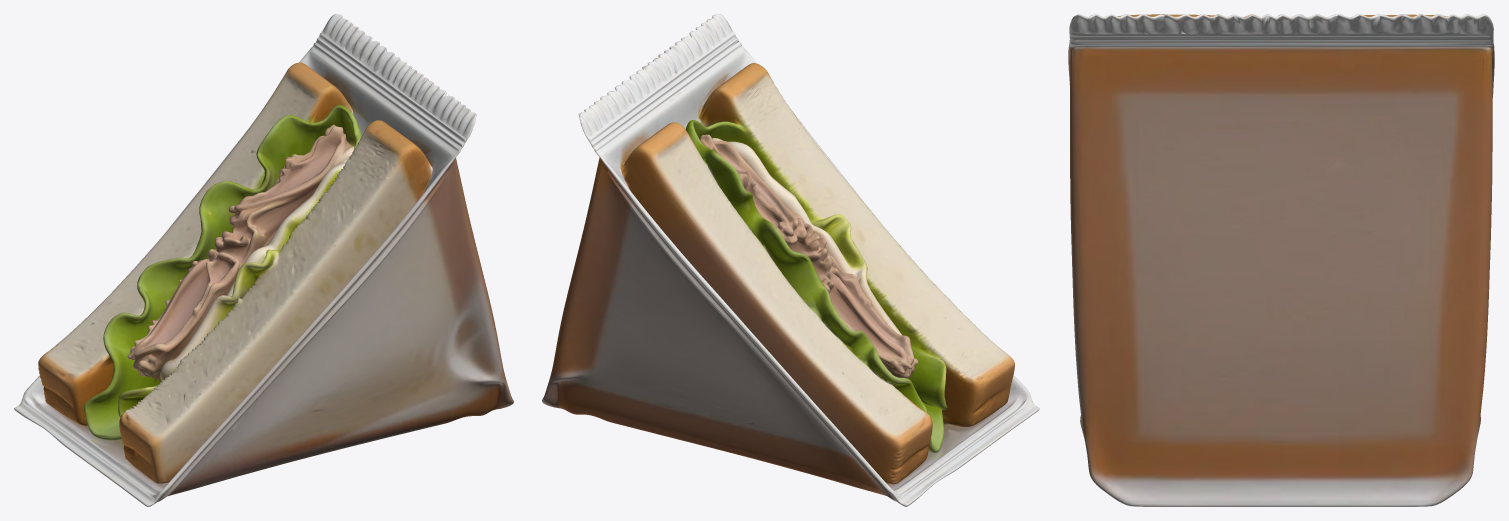
Rendered from tuna-sandwich.glb.
The picture shows the model from 3 angles, left to right: view 1: azimuth 30°, elevation 25°; view 2: azimuth 150°, elevation 25°; view 3: azimuth 270°, elevation 25°; orthographic projection. The views are drawn at different scales.
Parts seen in each view (by area): view 1: node_0; view 2: node_0; view 3: node_0.
Boxes of the visible parts, x1,y1,x2,y2 form: node_0: (14,14,513,506); node_0: (542,14,1039,506); node_0: (1068,14,1494,506).
Size of the model in its own units: 0.8497 by 0.6767 by 0.5705.
Materials: 1 (1 with a texture image).
